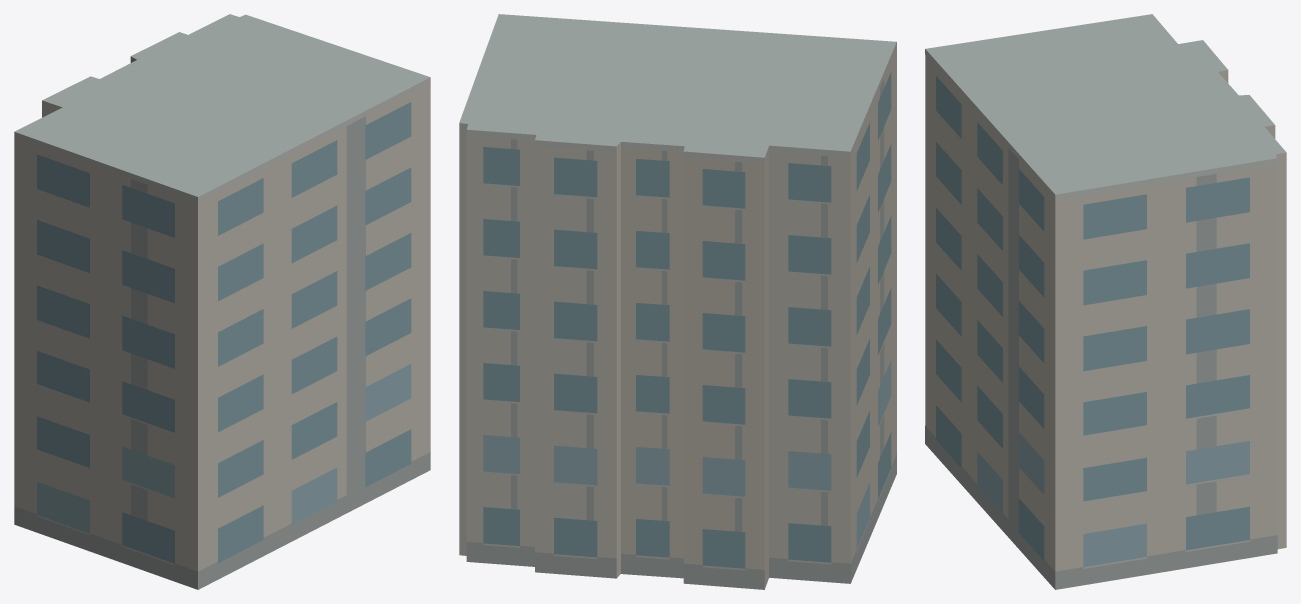
File: survey-upis-32943373.glb
3 views of the same model, side by side, from view 1: azimuth 30°, elevation 25°; view 2: azimuth 150°, elevation 25°; view 3: azimuth 270°, elevation 25° (orthographic). The views are drawn at different scales.
Visible parts, largest first — view 1: survey-upis-32943373.tmp; view 2: survey-upis-32943373.tmp; view 3: survey-upis-32943373.tmp.
Part boxes in pixels (x1,y1,x2,y2): survey-upis-32943373.tmp: (14, 14, 430, 589); survey-upis-32943373.tmp: (459, 14, 896, 589); survey-upis-32943373.tmp: (925, 14, 1286, 589).
Size of the model in its own units: 16.78 by 17.1 by 14.19.
